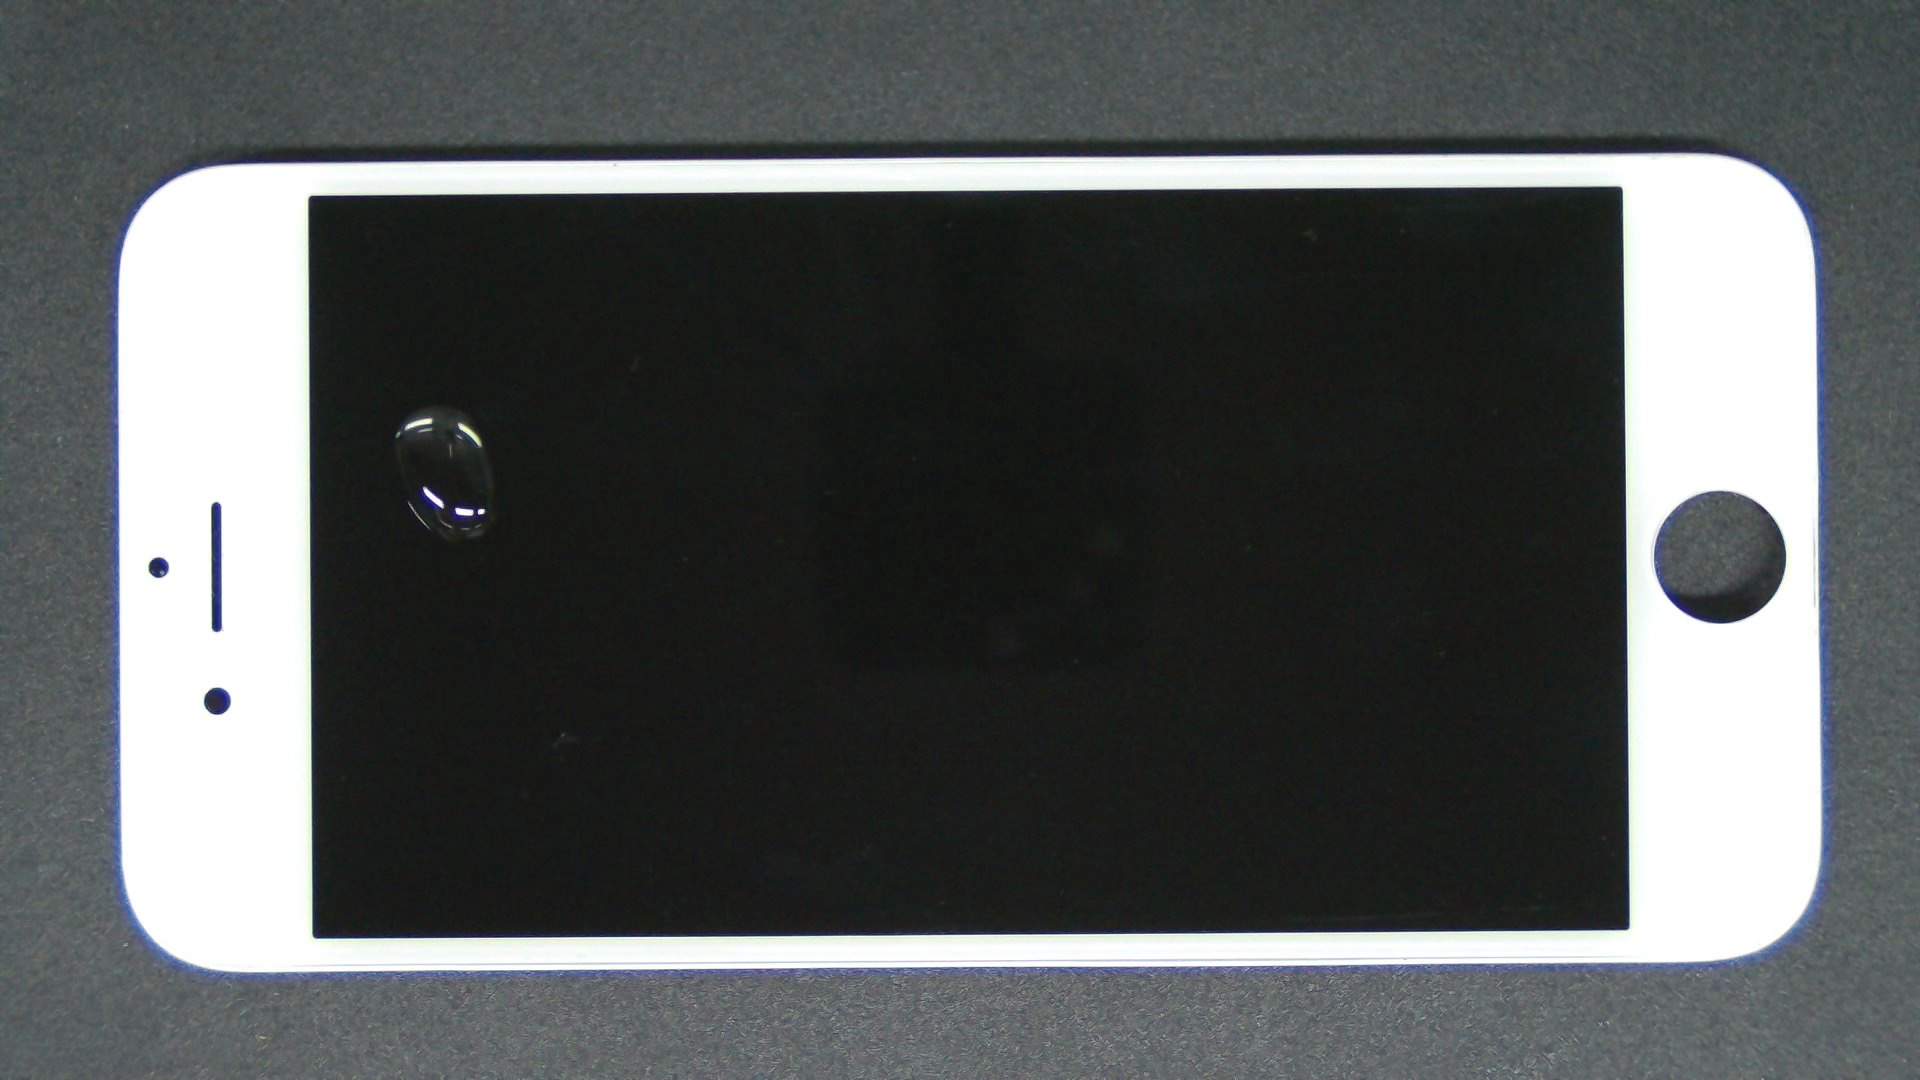oil: (216, 203, 646, 609)
